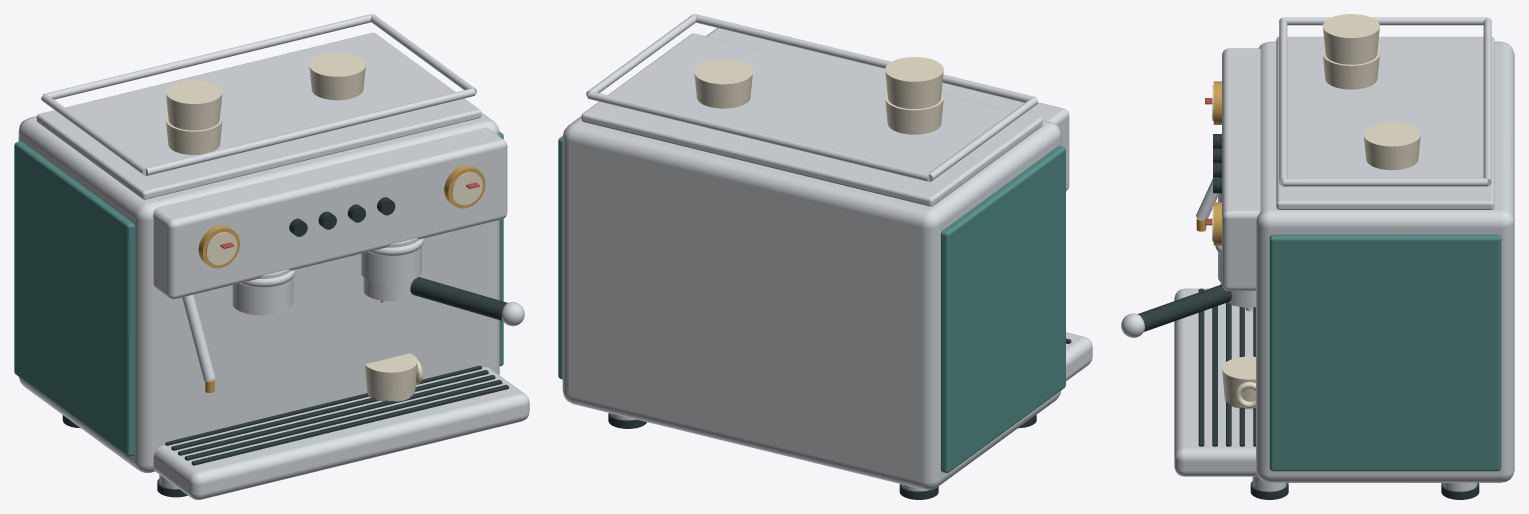
The model's file is coffee-machine.glb.
The picture shows the model from 3 angles, left to right: view 1: azimuth 30°, elevation 25°; view 2: azimuth 150°, elevation 25°; view 3: azimuth 270°, elevation 25°; orthographic projection. The views are drawn at different scales.
Parts seen in each view (by area): view 1: coffee-machine; view 2: coffee-machine; view 3: coffee-machine.
Part boxes in pixels (left/top/right/bottom): coffee-machine: left=14, top=14, right=529, bottom=499; coffee-machine: left=558, top=14, right=1092, bottom=499; coffee-machine: left=1121, top=14, right=1514, bottom=499.
Size of the model in its own units: 0.645 by 0.5775 by 0.578.
